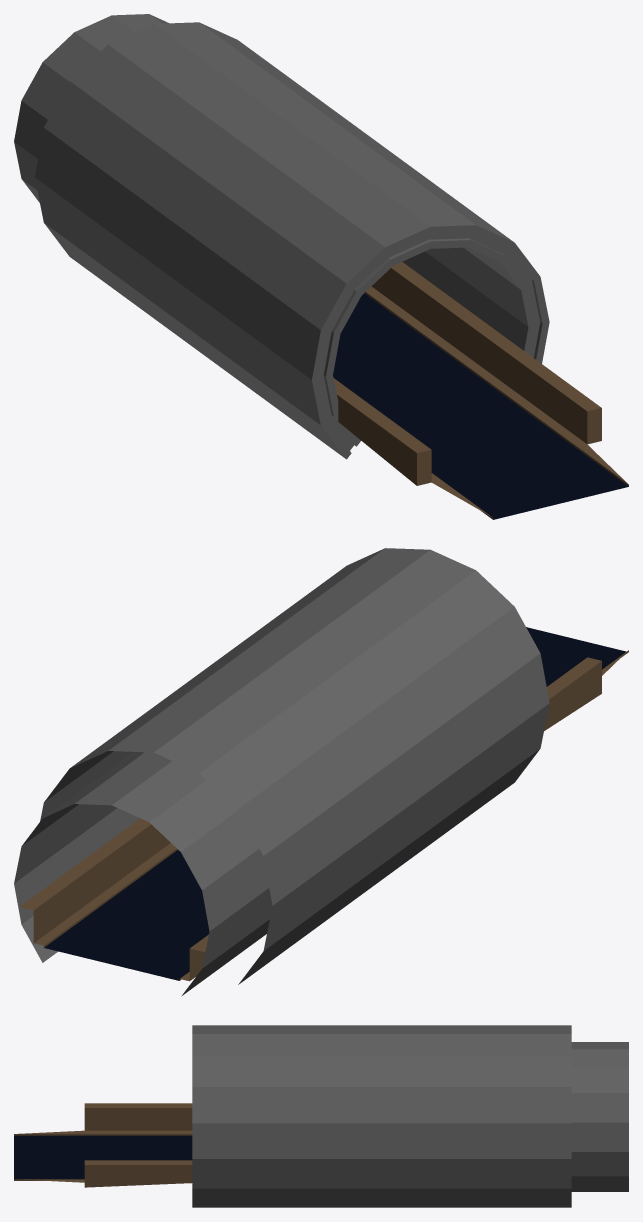
The model's file is tunnelEntrance.glb.
3 views of the same model, one above another, from view 1: azimuth 30°, elevation 25°; view 2: azimuth 150°, elevation 25°; view 3: azimuth 270°, elevation 25° (orthographic). The views are drawn at different scales.
Visible parts, largest first — view 1: tunnel; view 2: tunnel; view 3: tunnel.
Part boxes in pixels (box(x1,y1,x2,y2)): tunnel: box(14, 14, 628, 519); tunnel: box(14, 548, 628, 996); tunnel: box(14, 1025, 628, 1207).
Size of the model in its own units: 15.46 by 13.19 by 50.59.
